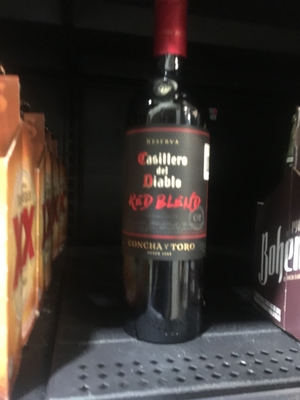casillero del diablo red blend: (106, 24, 221, 338)
